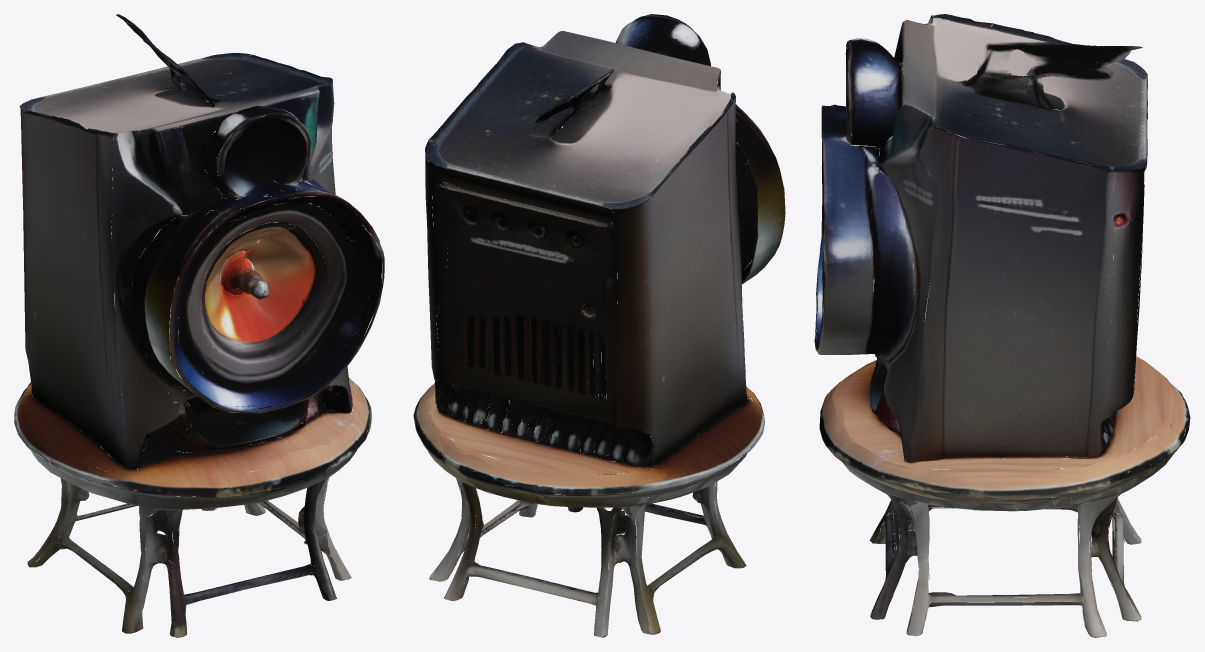
The model's file is baflerojobake.glb.
The picture shows the model from 3 angles, left to right: view 1: azimuth 30°, elevation 25°; view 2: azimuth 150°, elevation 25°; view 3: azimuth 270°, elevation 25°; orthographic projection. The views are drawn at different scales.
Parts seen in each view (by area): view 1: world; view 2: world; view 3: world.
Boxes of the visible parts, box(x1,y1,x2,y2) form: world: box(14, 14, 384, 637); world: box(413, 14, 785, 637); world: box(814, 14, 1190, 637).
Size of the model in its own units: 0.6338 by 1 by 0.643.
1 material, 1 textured.
